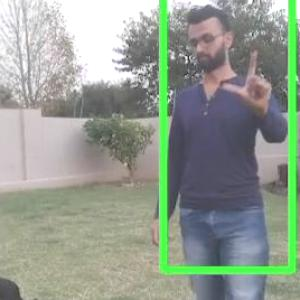land_hand: (222, 37, 283, 114)
